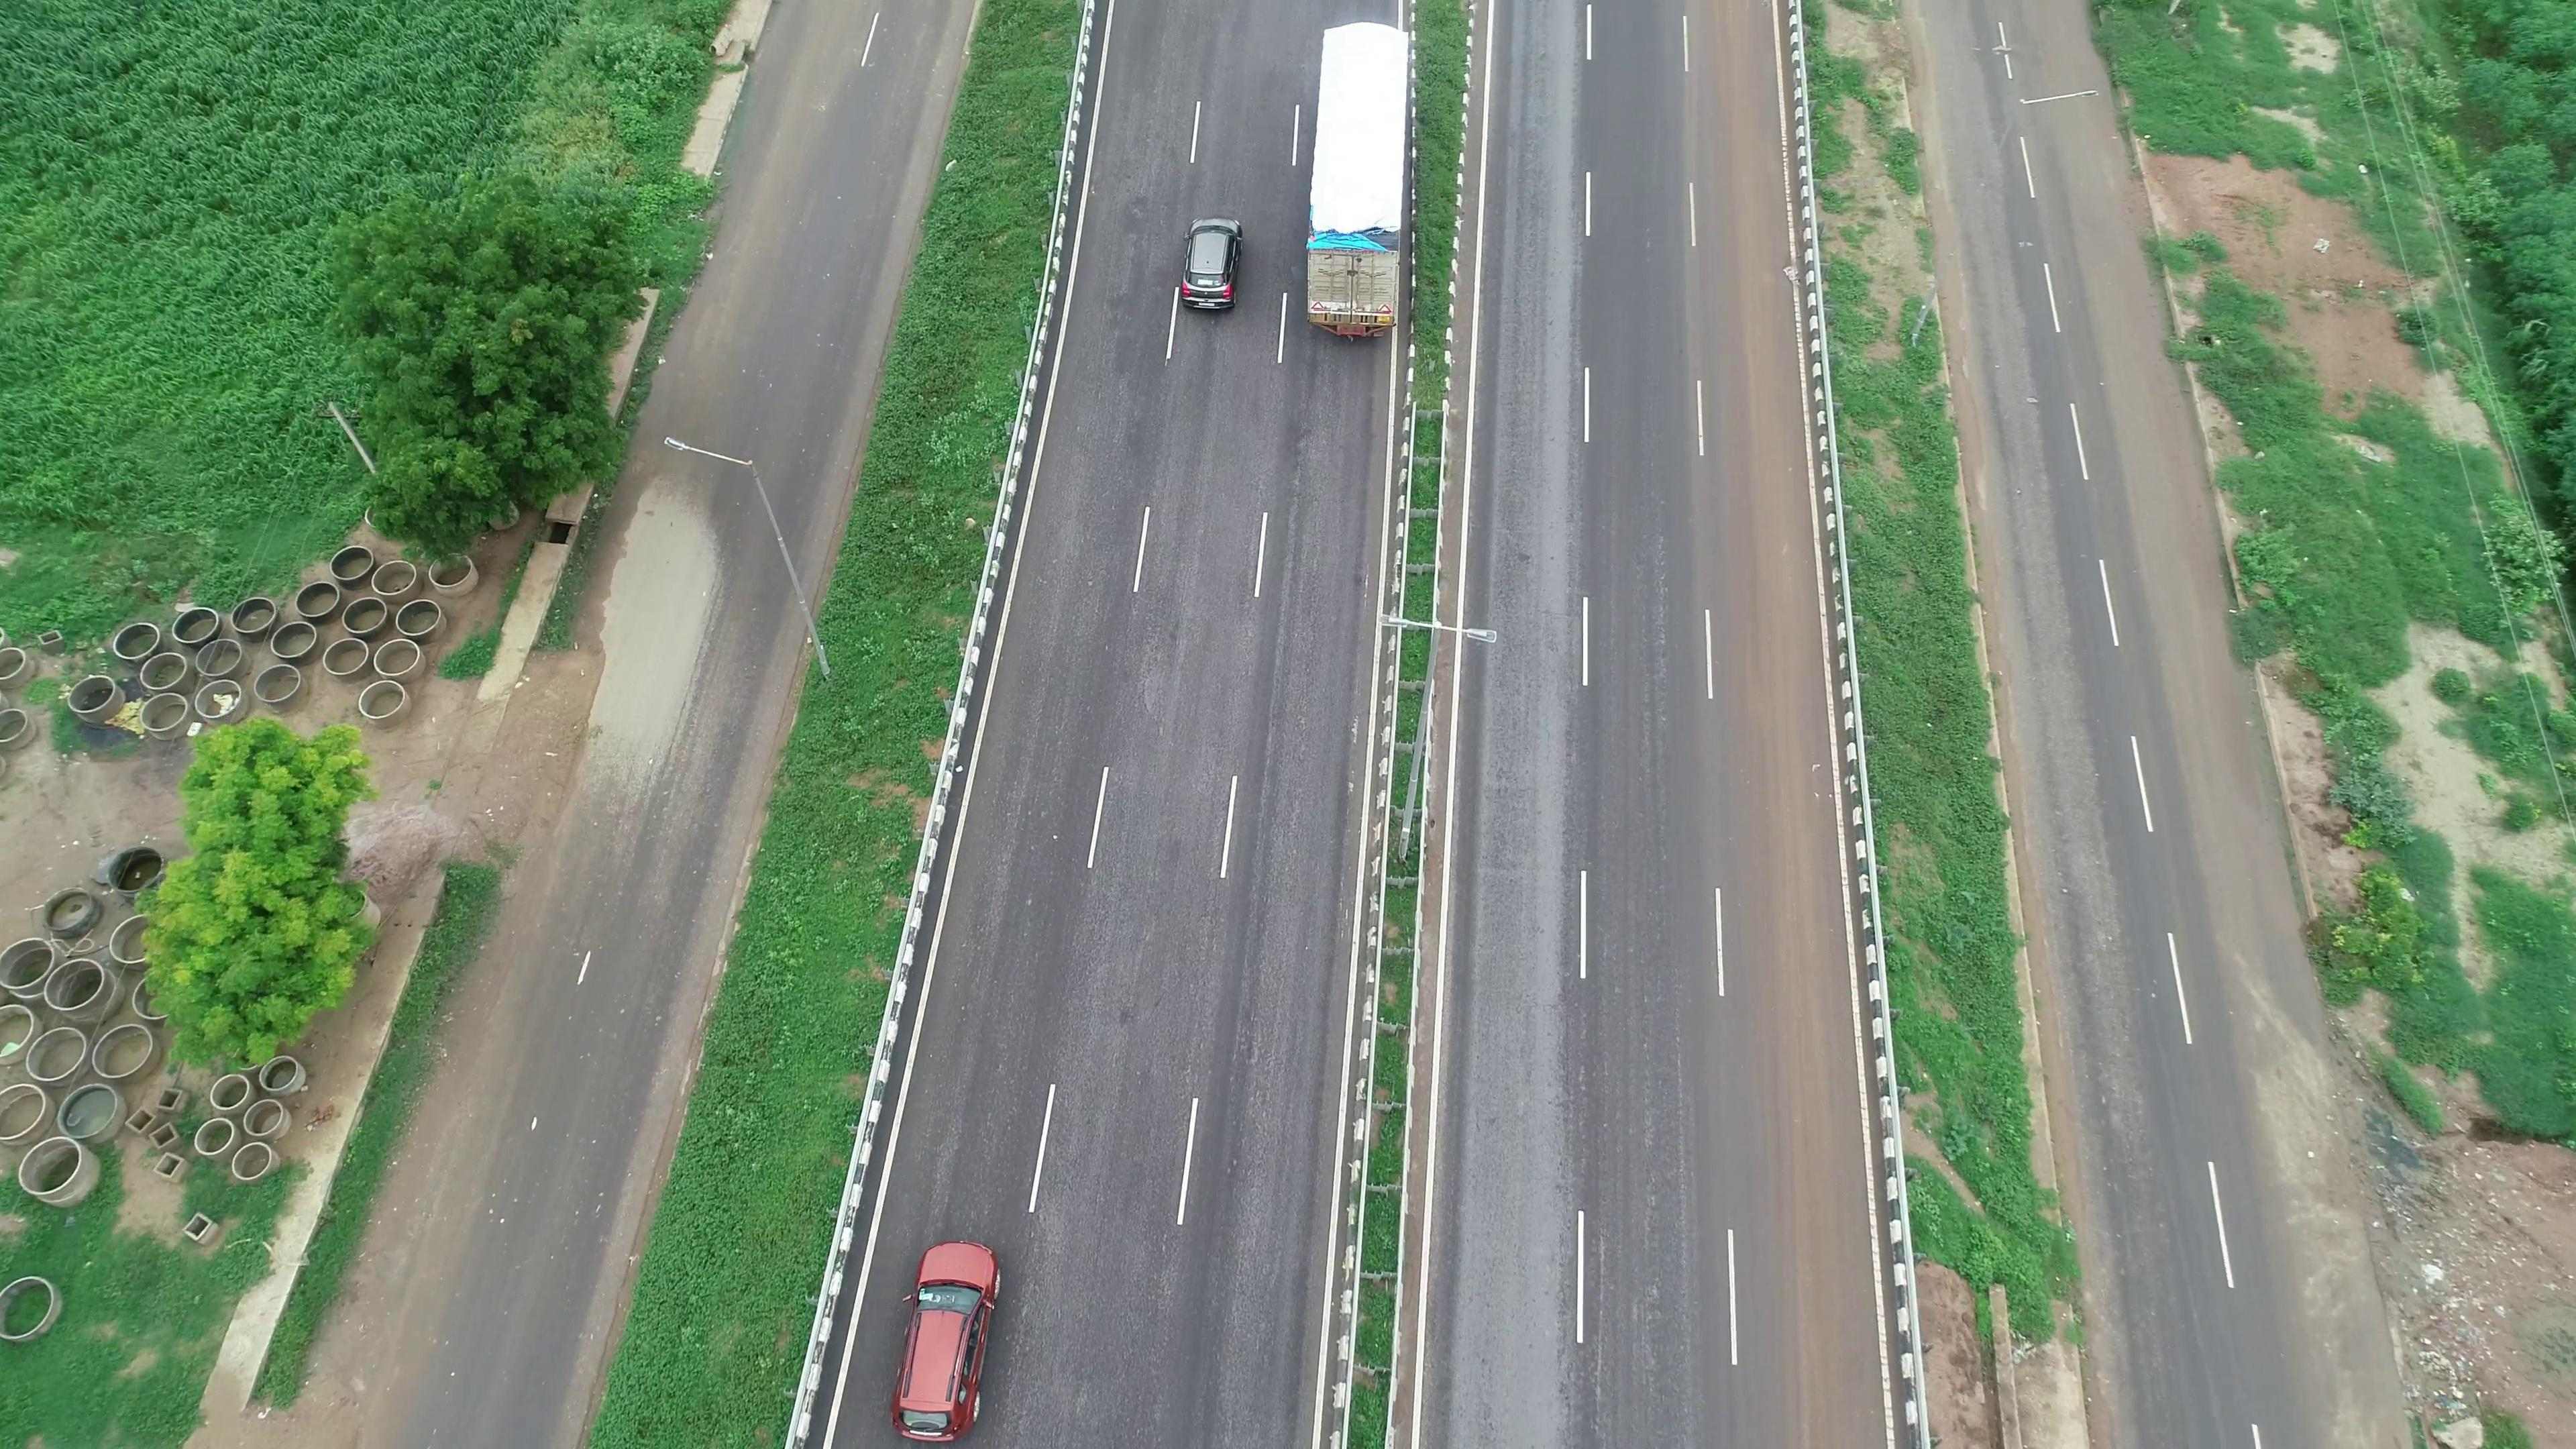Muddy_road: (1667, 416, 1824, 913), (1734, 916, 1870, 1435), (1674, 28, 1794, 396)
